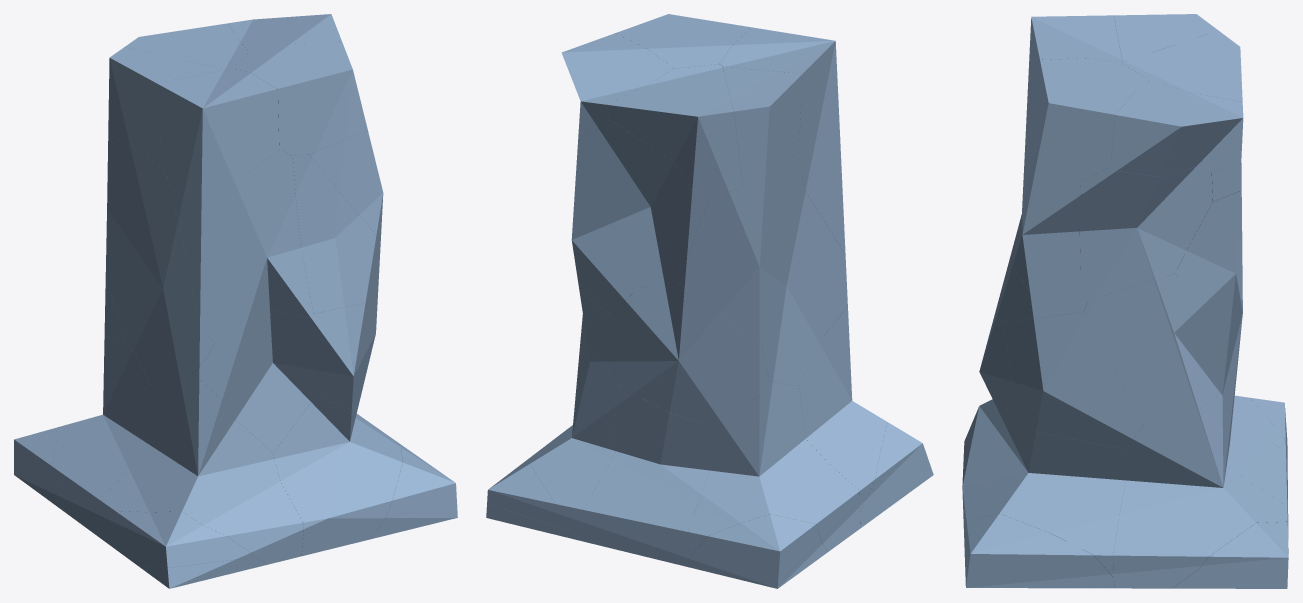
Rendered from PIllarWNoAnim.fbx.
3 views of the same model, side by side, from view 1: azimuth 30°, elevation 25°; view 2: azimuth 150°, elevation 25°; view 3: azimuth 270°, elevation 25° (orthographic). The views are drawn at different scales.
Parts seen in each view (by area): view 1: Cube_040_cell_019, Cube_040_cell_003, Cube_040_cell_029, Cube_040_cell_020, Cube_040_cell_005, Cube_040_cell_026, Cube_040_cell_018, Cube_040_cell_025, Cube_040_cell_015, Cube_040_cell_010, Cube_040_cell_004, Cube_040_cell_022 (+10 smaller); view 2: Cube_040_cell_018, Cube_040_cell_028, Cube_040_cell, Cube_040_cell_007, Cube_040_cell_022, Cube_040_cell_017, Cube_040_cell_005, Cube_040_cell_019, Cube_040_cell_021, Cube_040_cell_004, Cube_040_cell_020, Cube_040_cell_002 (+8 smaller); view 3: Cube_040_cell_021, Cube_040_cell_012, Cube_040_cell_029, Cube_040_cell_023, Cube_040_cell_013, Cube_040_cell_008, Cube_040_cell_025, Cube_040_cell_006, Cube_040_cell_027, Cube_040_cell_016, Cube_040_cell_017, Cube_040_cell_020 (+14 smaller).
Part boxes in pixels (left/top/right/bottom): Cube_040_cell_019: left=99, top=379, right=303, bottom=564; Cube_040_cell_003: left=168, top=149, right=313, bottom=342; Cube_040_cell_029: left=273, top=388, right=402, bottom=556; Cube_040_cell_020: left=156, top=68, right=279, bottom=203; Cube_040_cell_005: left=109, top=190, right=215, bottom=391; Cube_040_cell_026: left=184, top=310, right=320, bottom=452; Cube_040_cell_018: left=52, top=336, right=154, bottom=534; Cube_040_cell_025: left=232, top=41, right=367, bottom=155; Cube_040_cell_015: left=287, top=153, right=380, bottom=313; Cube_040_cell_010: left=96, top=511, right=253, bottom=567; Cube_040_cell_004: left=108, top=47, right=226, bottom=167; Cube_040_cell_022: left=105, top=133, right=168, bottom=287; Cube_040_cell_018: left=688, top=380, right=860, bottom=557; Cube_040_cell_028: left=604, top=283, right=769, bottom=424; Cube_040_cell: left=582, top=382, right=709, bottom=566; Cube_040_cell_007: left=576, top=120, right=708, bottom=287; Cube_040_cell_022: left=680, top=158, right=801, bottom=344; Cube_040_cell_017: left=606, top=64, right=742, bottom=197; Cube_040_cell_005: left=761, top=173, right=847, bottom=386; Cube_040_cell_019: left=799, top=306, right=887, bottom=511; Cube_040_cell_021: left=526, top=351, right=615, bottom=541; Cube_040_cell_004: left=722, top=66, right=802, bottom=186; Cube_040_cell_020: left=719, top=27, right=839, bottom=161; Cube_040_cell_002: left=687, top=514, right=827, bottom=588; Cube_040_cell_021: left=1113, top=383, right=1288, bottom=588; Cube_040_cell_012: left=1083, top=273, right=1233, bottom=423; Cube_040_cell_029: left=962, top=419, right=1125, bottom=576; Cube_040_cell_023: left=1079, top=167, right=1212, bottom=300; Cube_040_cell_013: left=1004, top=312, right=1143, bottom=449; Cube_040_cell_008: left=1110, top=81, right=1243, bottom=177; Cube_040_cell_025: left=1034, top=58, right=1149, bottom=181; Cube_040_cell_006: left=964, top=513, right=1114, bottom=587; Cube_040_cell_027: left=1012, top=150, right=1080, bottom=292; Cube_040_cell_016: left=1175, top=191, right=1239, bottom=325; Cube_040_cell_017: left=1122, top=30, right=1242, bottom=101; Cube_040_cell_020: left=1026, top=15, right=1122, bottom=119.
Bounding box in the file's own units: 7.6 × 10.96 × 7.08.
